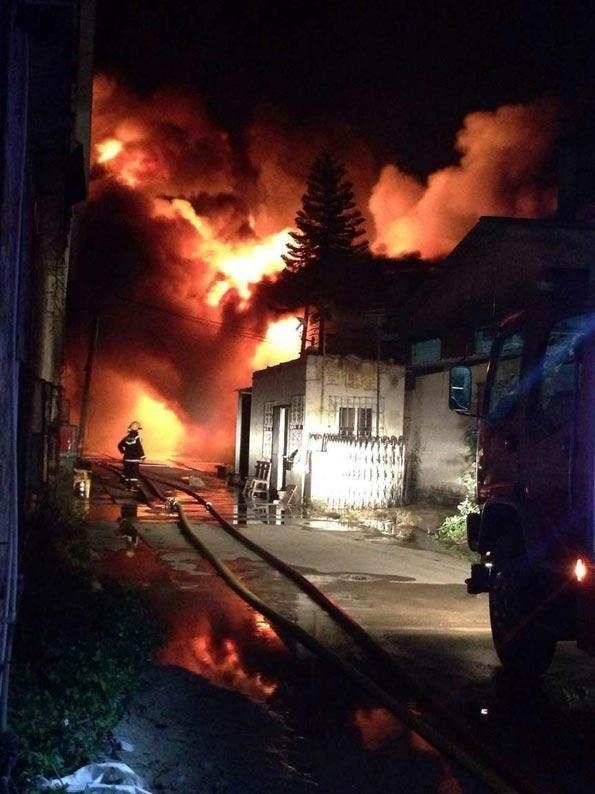fire: (128, 387, 183, 454)
